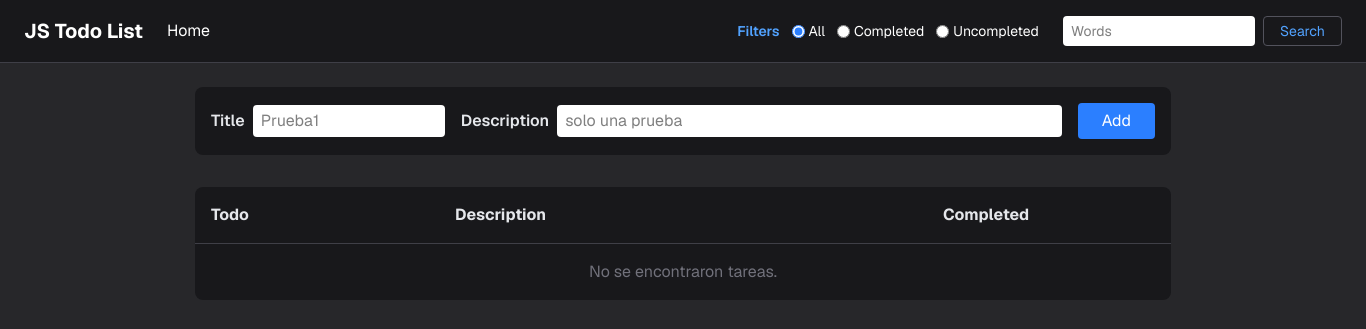
Test case: Página Principal - Sprint 1 y 2 › permite editar una tarea existente
Agregamos una tarea inicial
Type "Tarea original" into the field with placeholder "Prueba1".
click(349, 121); type("Tarea original")  # box [253,105,445,137]
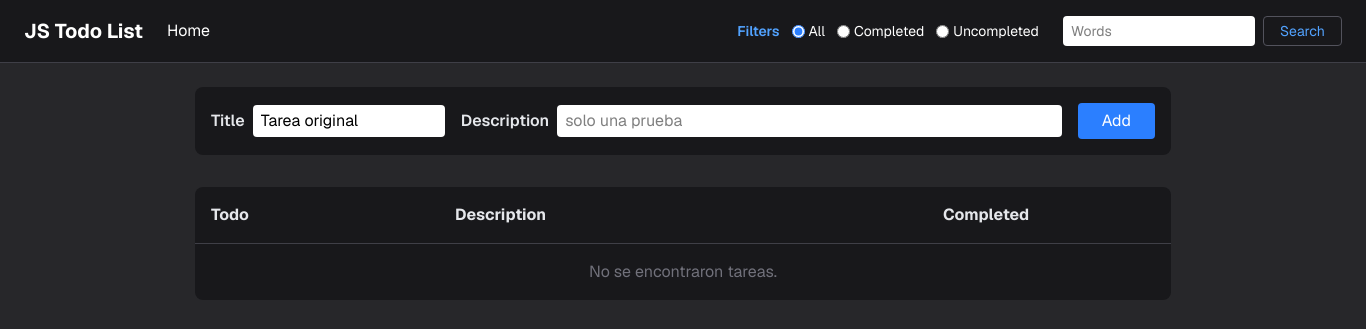
Type "Descripción original" into the field with placeholder "solo una prueba".
click(809, 121); type("Descripción original")  # box [557,105,1062,137]
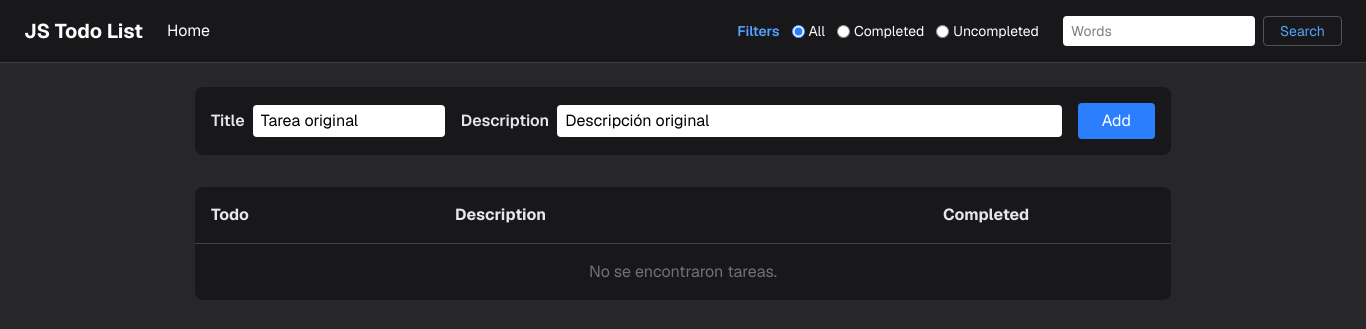
Click the button "Add".
click(1116, 121)  # box [1078,103,1155,139]
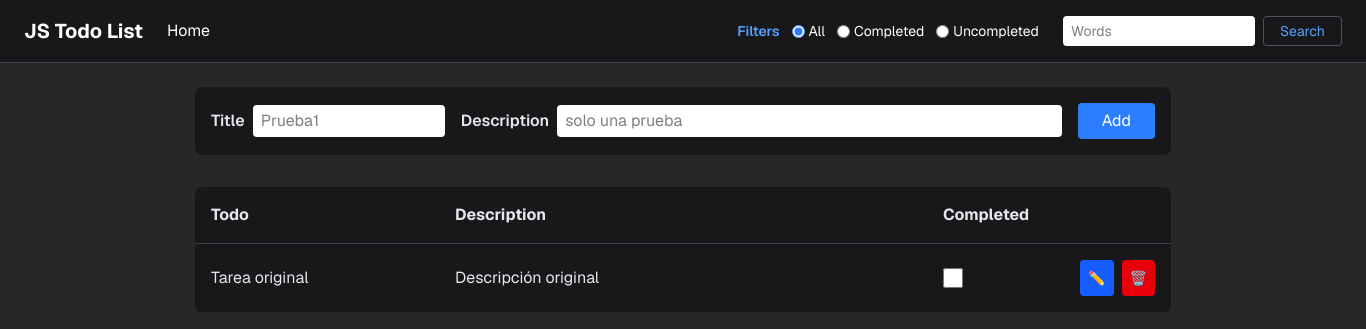
Hacemos clic en el botón de editar
Click the button "✏️".
click(1097, 278)  # box [1080,260,1114,296]
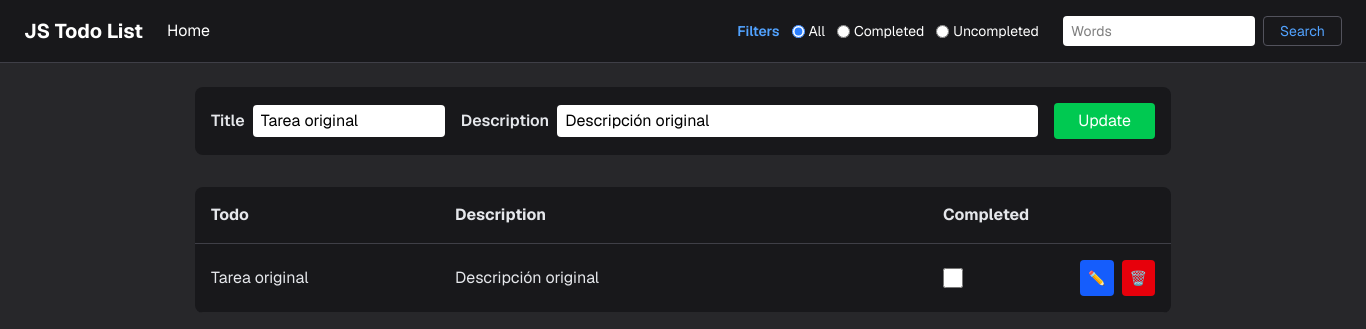
Modificamos el título y guardamos
Replace the text in the field showing "Tarea original" next to "Title" with "Tarea editada" at (349, 121), box [253,105,445,137]
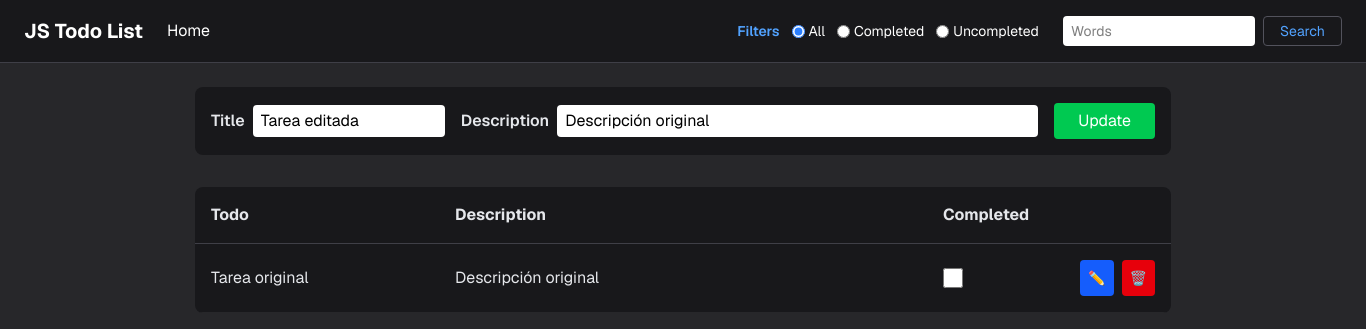
El botón debe haber cambiado a "Update"
Click the button "Update".
click(1105, 121)  # box [1054,103,1155,139]
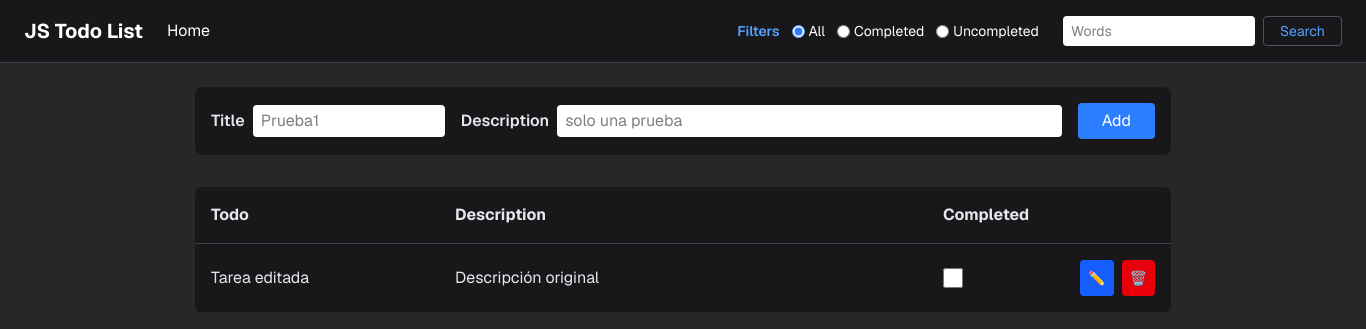
Expected: the text "Tarea editada" is shown, [195,244,439,312]
Expected: the text "Tarea original" is gone
